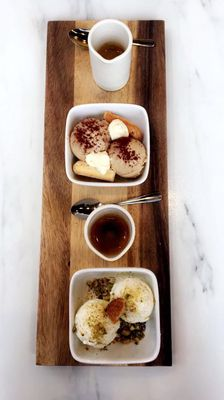pizza: (87, 19, 134, 92)
salad: (71, 193, 162, 218)
sushi: (68, 267, 162, 365), (63, 103, 152, 185), (83, 204, 136, 263)
